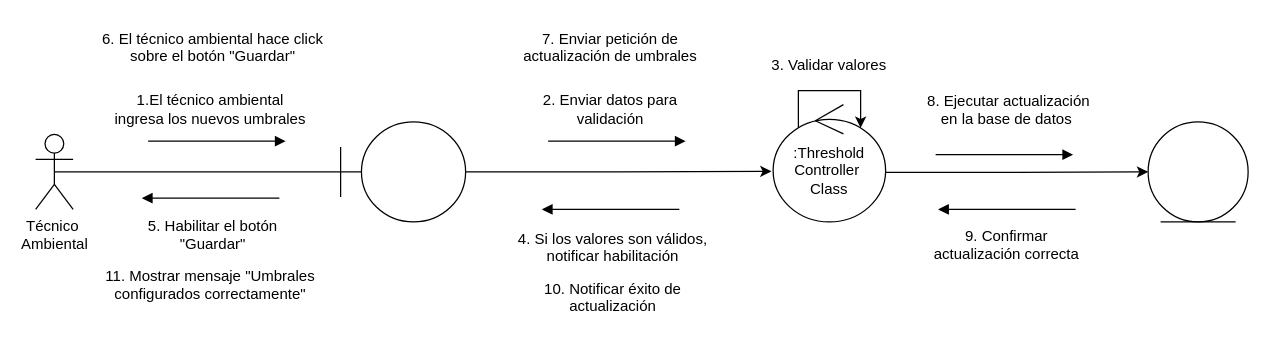
This 1270x343 diagram has some shape labels left out. Here are the shapes that lost their labels. From the top down, the centre of each, then its label:
At (x=402, y=171): ":ThresholdUI Class".
At (x=1197, y=171): ":Threshold Class".
